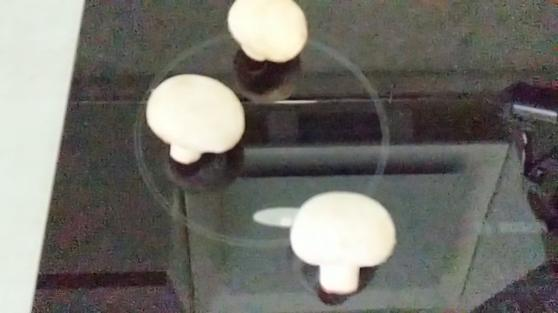champignon: (285, 190, 399, 298), (142, 74, 246, 165), (224, 1, 309, 65)
